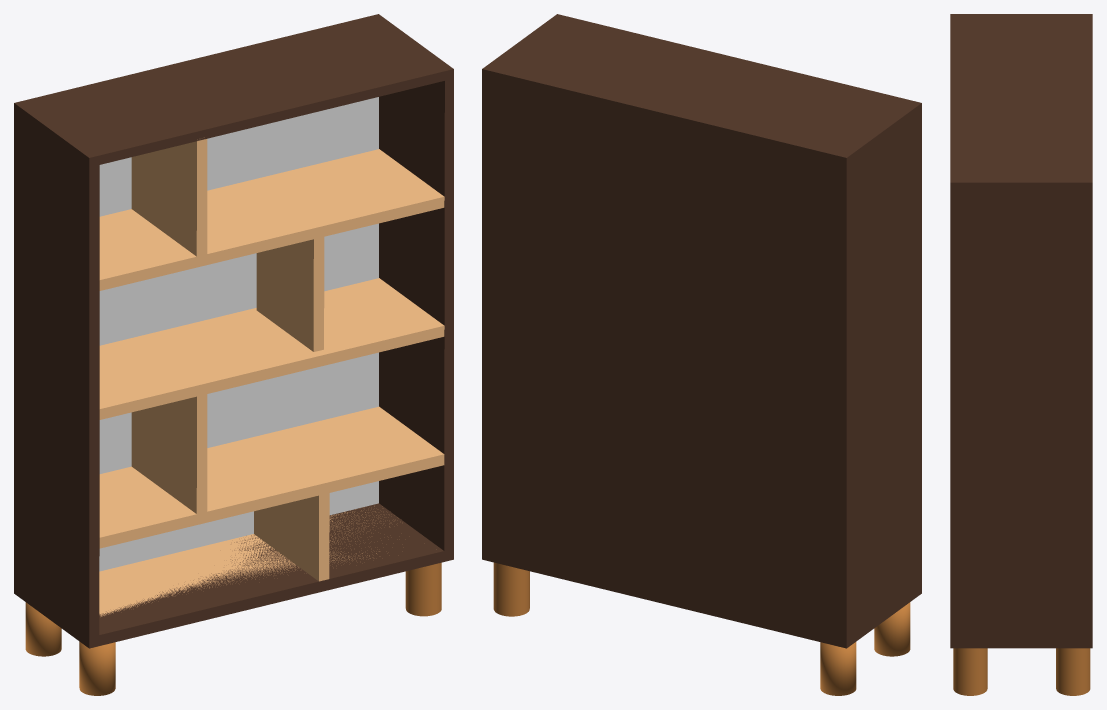
The picture shows the model from 3 angles, left to right: view 1: azimuth 30°, elevation 25°; view 2: azimuth 150°, elevation 25°; view 3: azimuth 270°, elevation 25°; orthographic projection. The views are drawn at different scales.
Visible parts, largest first — view 1: Cube, Cube.013, Cube.002, Cube.001, Cube.003, Cube.011, Cube.008, Cube.007, Cube.006, Cube.009, Cylinder.003, Cylinder (+1 smaller); view 2: Cube, Cylinder.002, Cylinder.001, Cylinder.003; view 3: Cube, Cylinder.001, Cylinder.
Boxes of the visible parts, bbox=[...] form: Cube: bbox=[14, 14, 453, 648]; Cube.013: bbox=[99, 97, 378, 571]; Cube.002: bbox=[99, 278, 444, 419]; Cube.001: bbox=[99, 149, 444, 290]; Cube.003: bbox=[99, 406, 444, 548]; Cube.011: bbox=[99, 506, 389, 616]; Cube.008: bbox=[131, 394, 207, 513]; Cube.007: bbox=[131, 137, 207, 256]; Cube.006: bbox=[256, 237, 324, 351]; Cube.009: bbox=[254, 492, 329, 581]; Cylinder.003: bbox=[79, 641, 115, 695]; Cylinder: bbox=[405, 562, 441, 616]; Cube: bbox=[482, 14, 921, 648]; Cylinder.002: bbox=[820, 642, 856, 695]; Cylinder.001: bbox=[493, 562, 529, 616]; Cylinder.003: bbox=[874, 602, 910, 656]; Cube: bbox=[950, 14, 1092, 648]; Cylinder.001: bbox=[1056, 648, 1090, 695]; Cylinder: bbox=[953, 648, 987, 695].
Size of what is drawn, in the model's own units: 0.7 by 0.9957 by 0.25.
